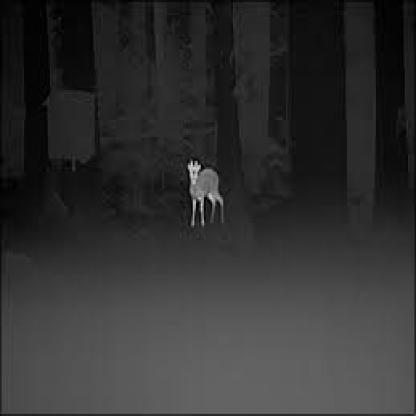rehkitze: (184, 154, 227, 237)
